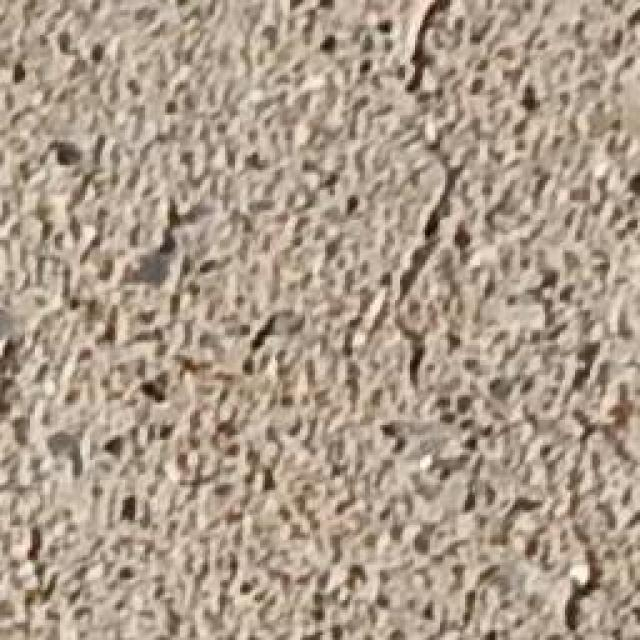concrete-crack: (375, 1, 488, 410)
